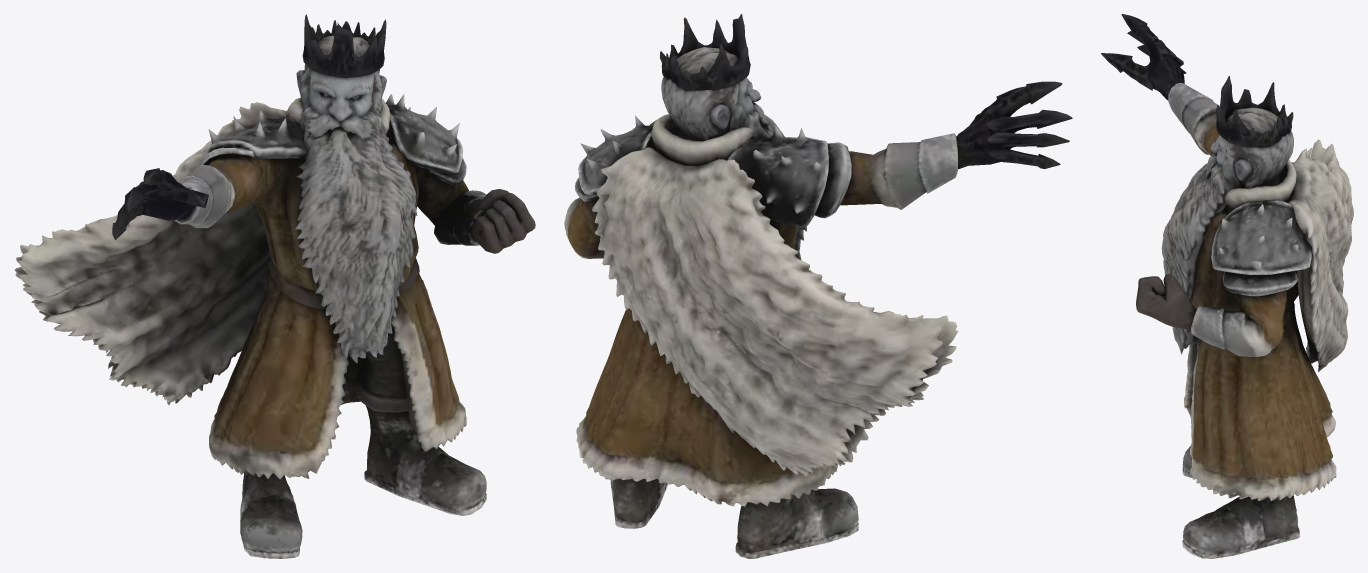
Rendered from MZ4250 - Xardarok Sunblight_alt.glb.
3 views of the same model, side by side, from view 1: azimuth 30°, elevation 25°; view 2: azimuth 150°, elevation 25°; view 3: azimuth 270°, elevation 25° (orthographic). The views are drawn at different scales.
Parts seen in each view (by area): view 1: Xardorok Sunblight.001; view 2: Xardorok Sunblight.001; view 3: Xardorok Sunblight.001.
Boxes of the visible parts, left/top/right/bottom form: Xardorok Sunblight.001: left=14, top=14, right=535, bottom=558; Xardorok Sunblight.001: left=564, top=14, right=1072, bottom=558; Xardorok Sunblight.001: left=1101, top=14, right=1353, bottom=558.
Bounding box in the file's own units: 26.41 × 29.01 × 15.55.
1 material, 1 textured.
